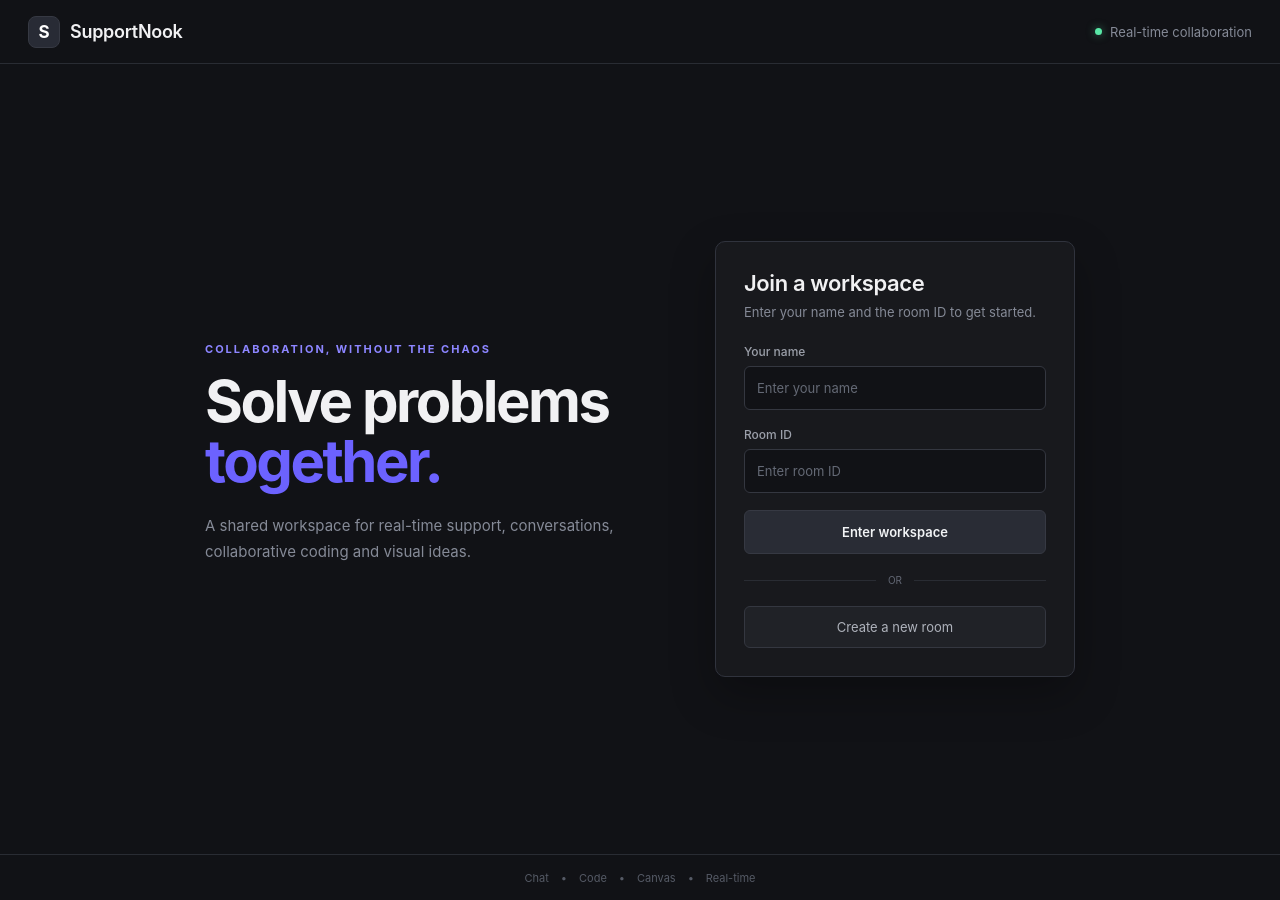
Test case: Home › shows an error when creating a room without a name
The image size is (1280, 900).
Click the button "Create a new room" at x=895, y=627, box x1=744 y1=606 x2=1046 y2=648
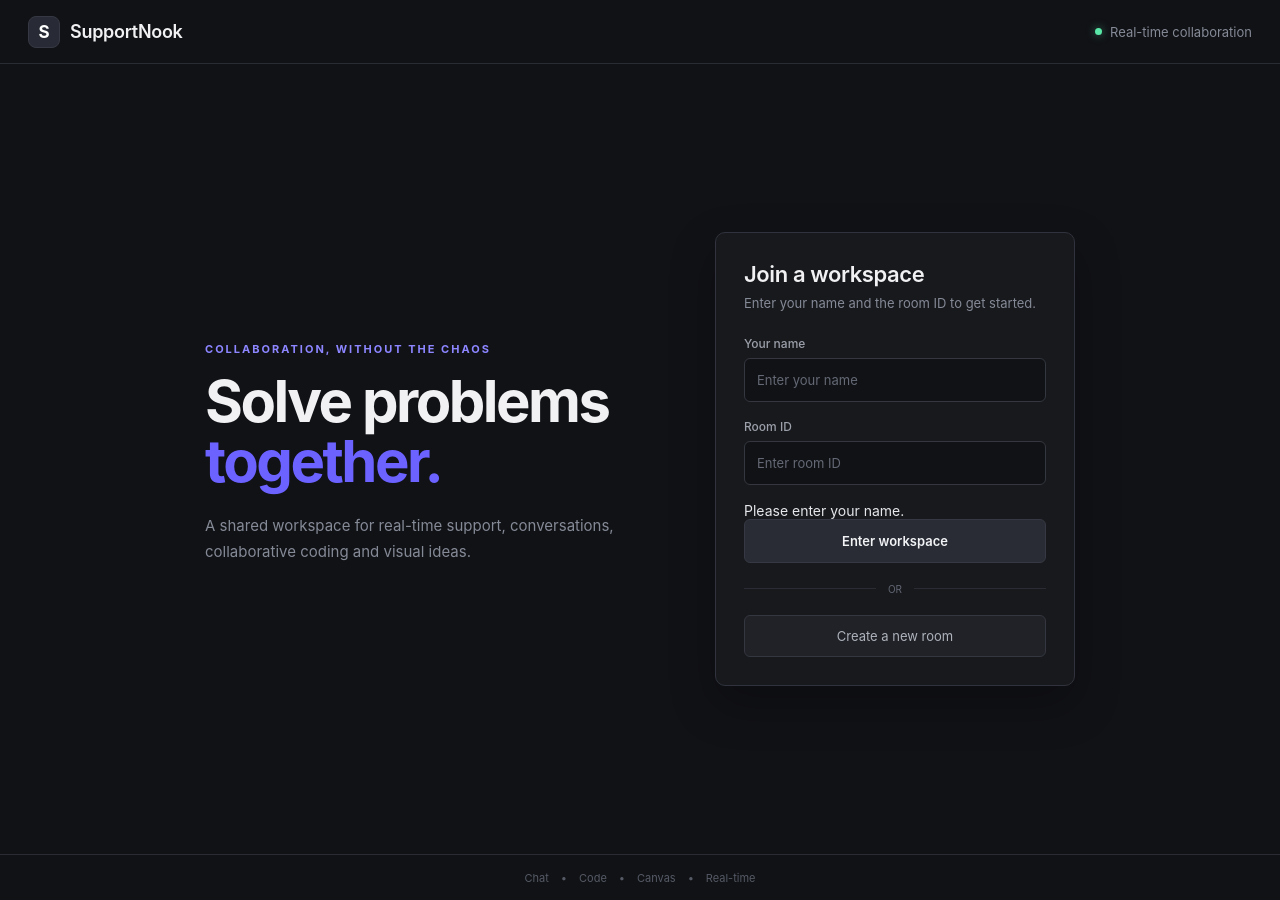
Expected: the text "Please enter your name." is shown, x1=744 y1=502 x2=904 y2=519
